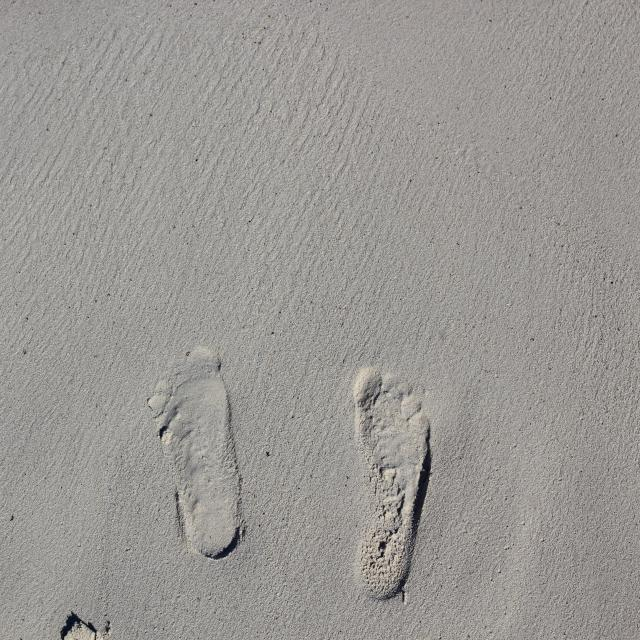human_foot_print: (116, 294, 514, 622), (347, 363, 435, 602)
